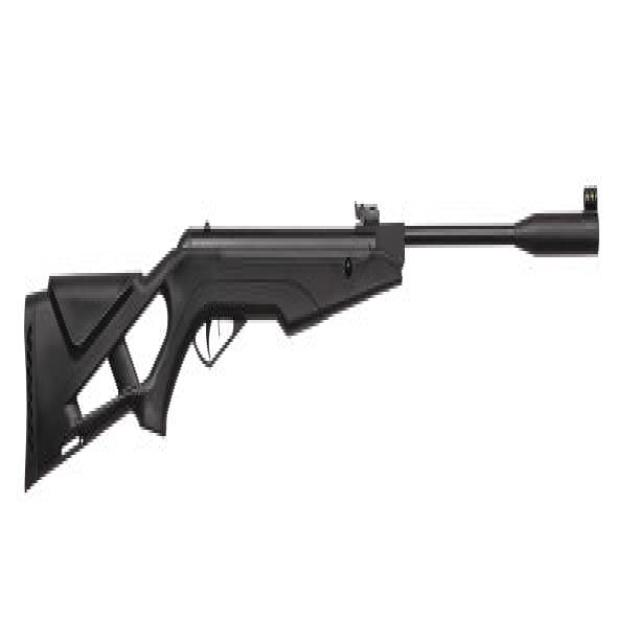rifle: (19, 167, 609, 512)
